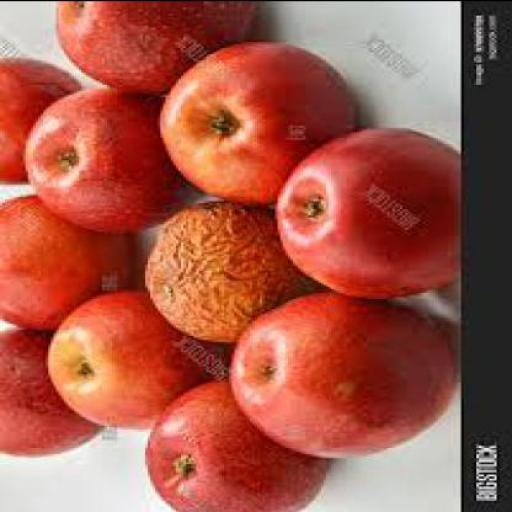biodegradable: (227, 290, 454, 461), (152, 43, 354, 208), (270, 128, 456, 300), (138, 202, 326, 344), (20, 90, 202, 235), (43, 292, 222, 430), (143, 383, 331, 511), (53, 2, 255, 96), (0, 195, 135, 332), (0, 328, 102, 457), (0, 60, 74, 188)
